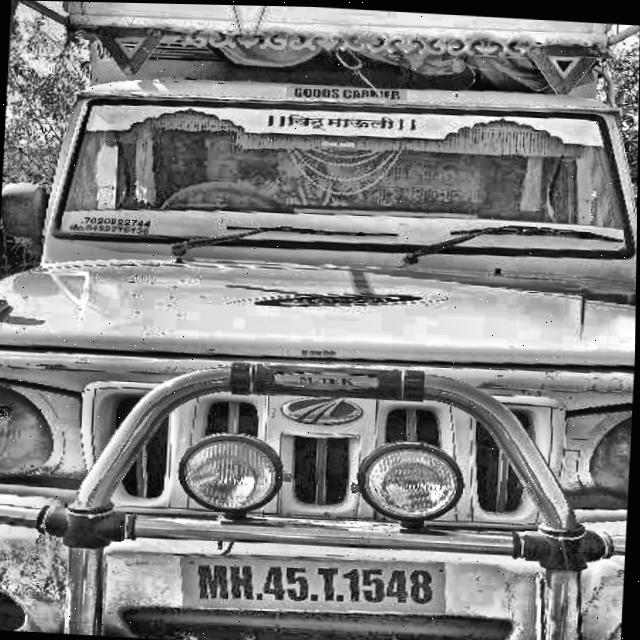light_vehicle: (0, 63, 639, 640)
